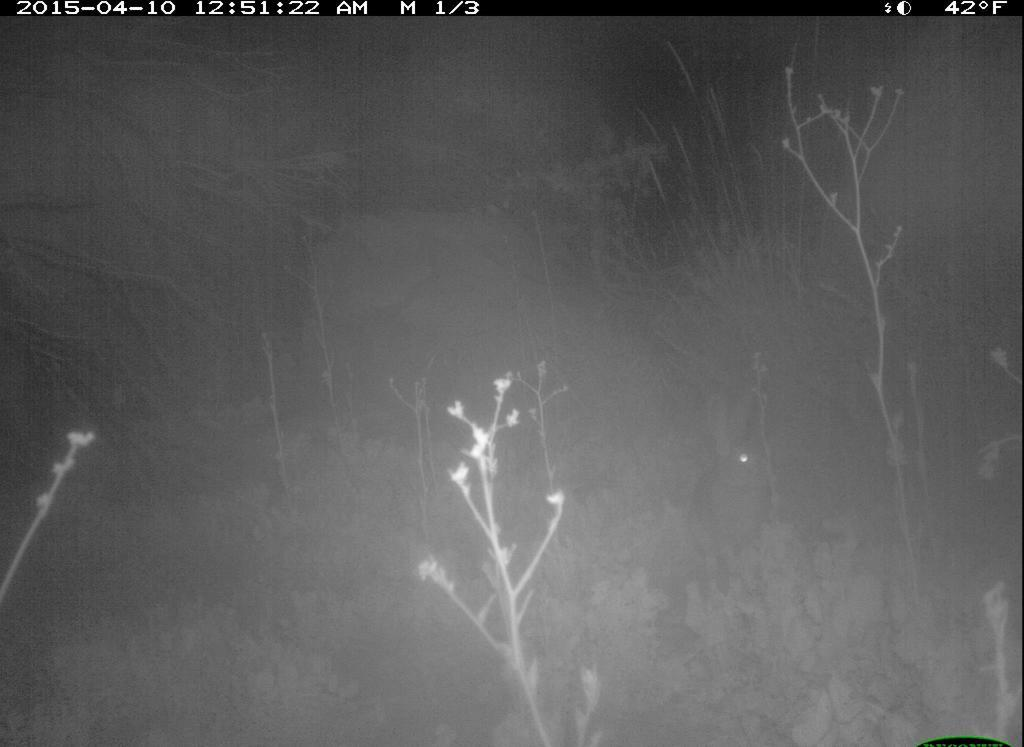rabbit: (693, 385, 781, 557)
